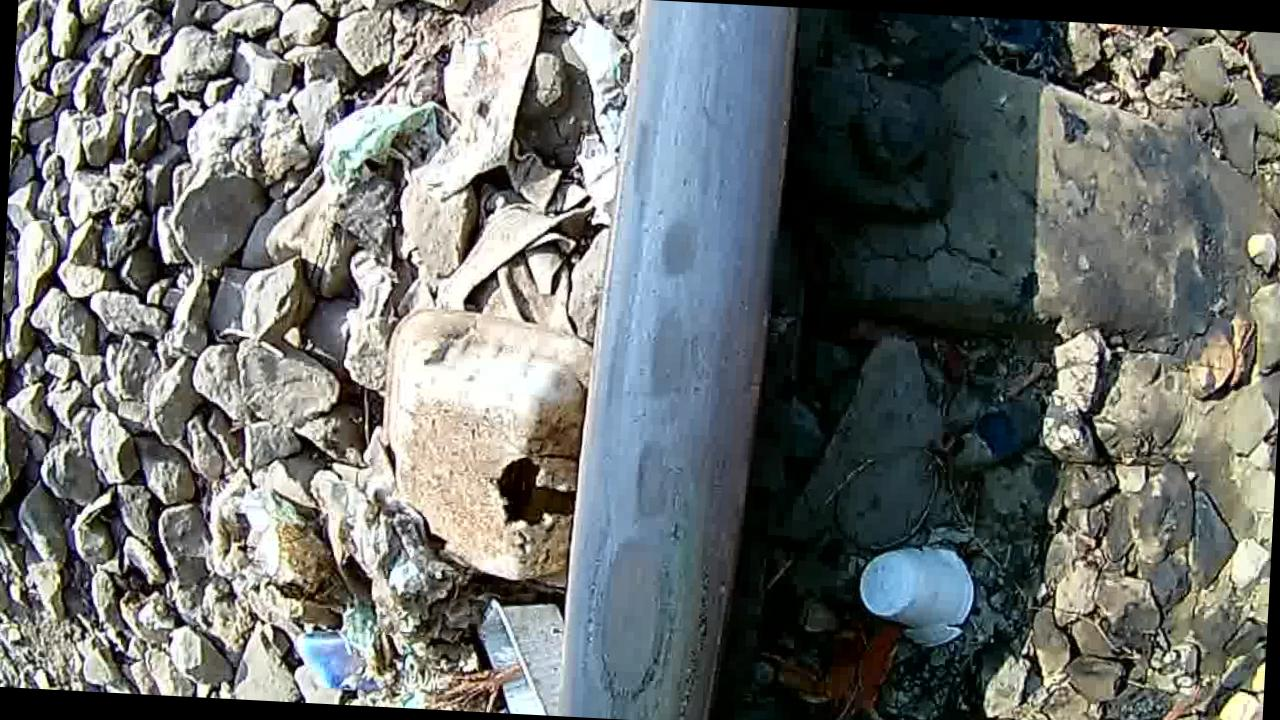bolt_missing: (567, 0, 813, 720)
